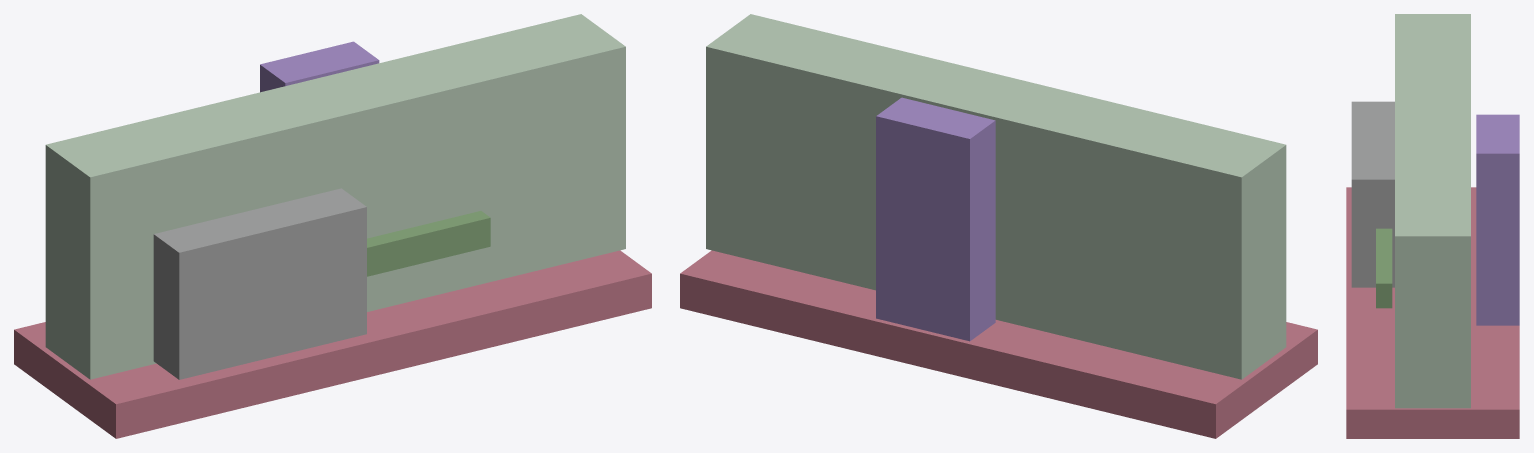
3 views of the same model, side by side, from view 1: azimuth 30°, elevation 25°; view 2: azimuth 150°, elevation 25°; view 3: azimuth 270°, elevation 25° (orthographic). The views are drawn at different scales.
Parts seen in each view (by area): view 1: world; view 2: world; view 3: world.
Boxes of the visible parts, x1,y1,x2,y2 form: world: (14,14,651,438); world: (680,14,1317,438); world: (1346,14,1519,438).
Size of the model in its own units: 9.75 by 4.15 by 3.2.
